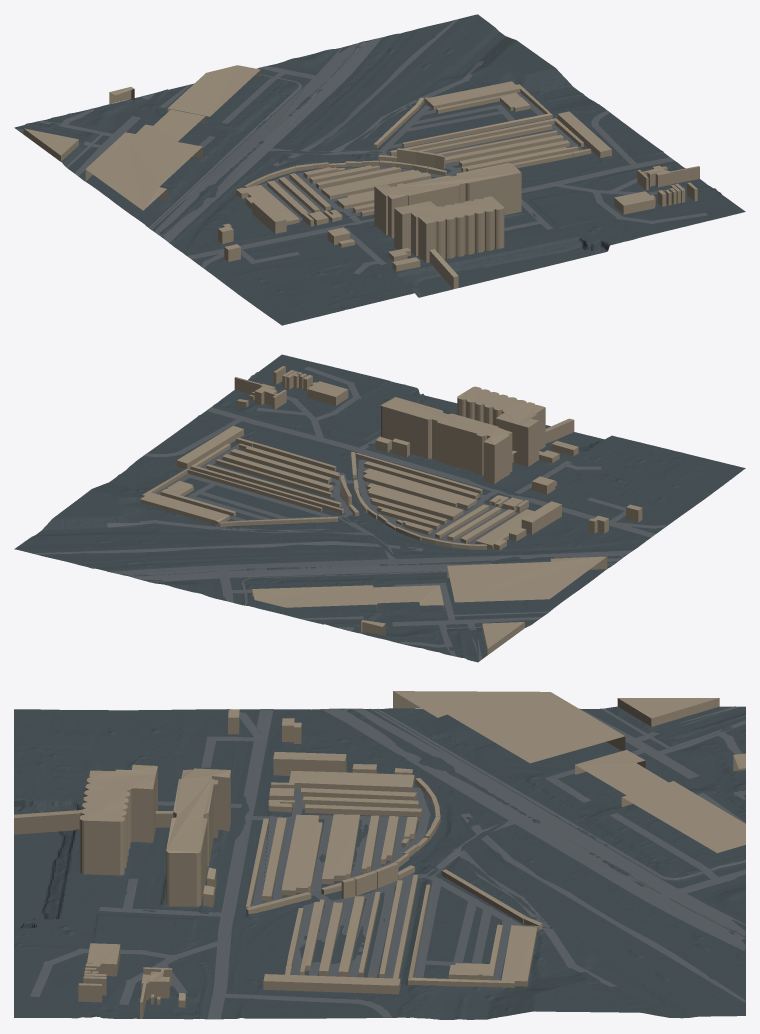
The model's file is epsg26910-1443-10879.lod0.glb.
3 renders of one model, top to bottom at view 1: azimuth 30°, elevation 25°; view 2: azimuth 150°, elevation 25°; view 3: azimuth 270°, elevation 25°, orthographic. The views are drawn at different scales.
Parts seen in each view (by area): view 1: epsg26910-1443-10879-lod0; view 2: epsg26910-1443-10879-lod0; view 3: epsg26910-1443-10879-lod0.
Part boxes in pixels (x1,y1,x2,y2): epsg26910-1443-10879-lod0: [14, 14, 745, 325]; epsg26910-1443-10879-lod0: [14, 354, 745, 662]; epsg26910-1443-10879-lod0: [14, 691, 745, 1019].
Bounding box in the file's own units: 384 × 36.29 × 384.
